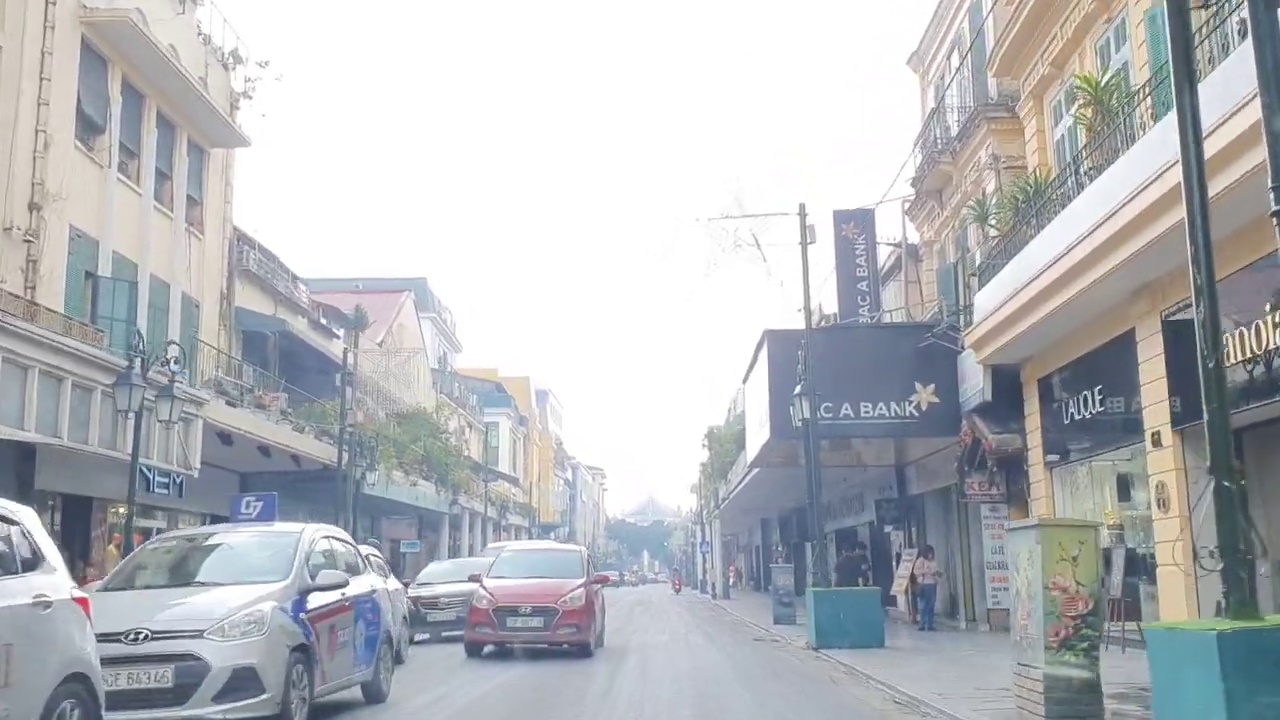person: (100, 668, 178, 688)
